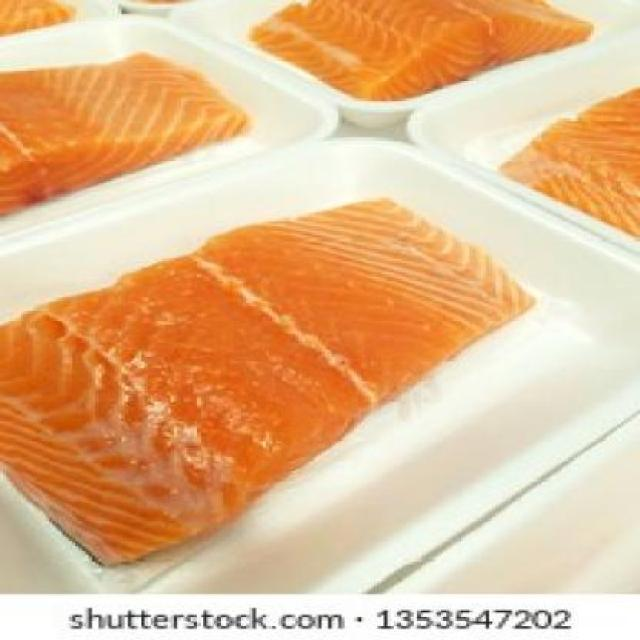salmon: (3, 197, 542, 560), (3, 48, 265, 205), (246, 3, 598, 102), (476, 66, 640, 242)
